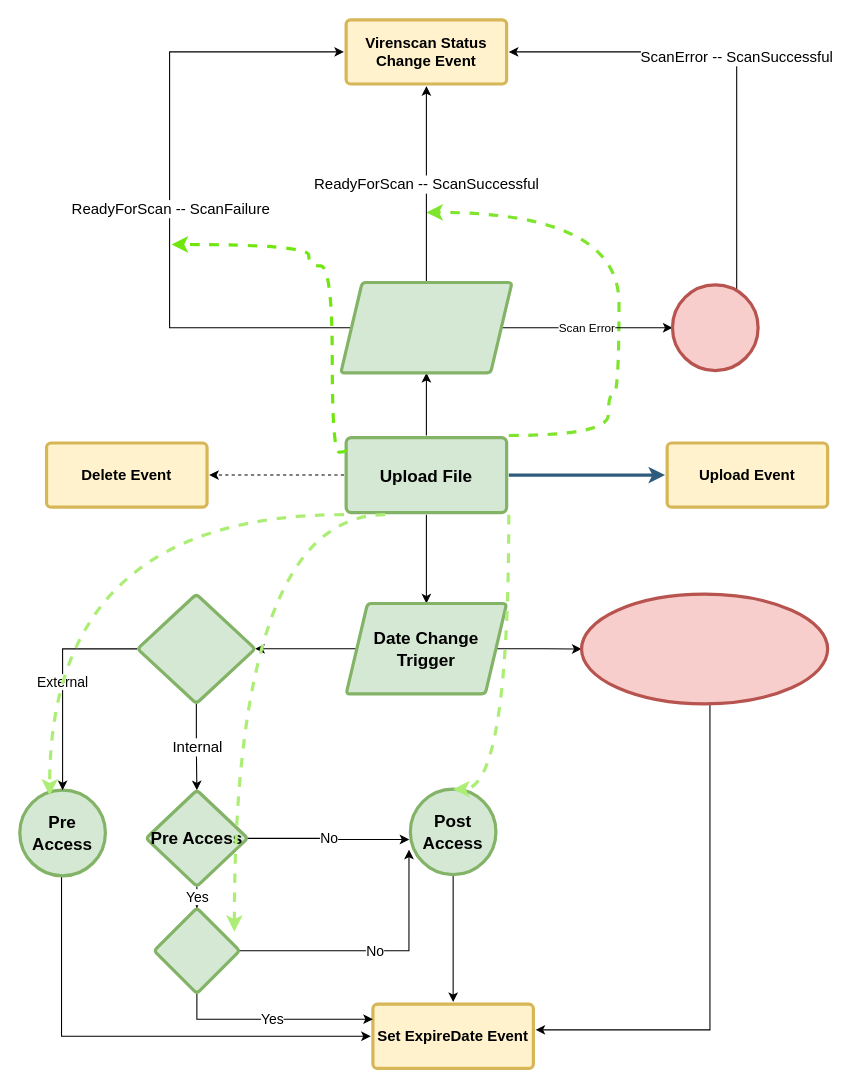
Image size: 852x1088. Some labels were removed from this diagram. The centre of each missing label's shape, as x and y in pixels:
"First Access" belongs at [196,950].
"Internal / External" belongs at [195,648].
"Rescan API" belongs at [714,327].
"Set Expiredate Api Internal/External" belongs at [704,648].
"Status Change Trigger" belongs at [426,327].
